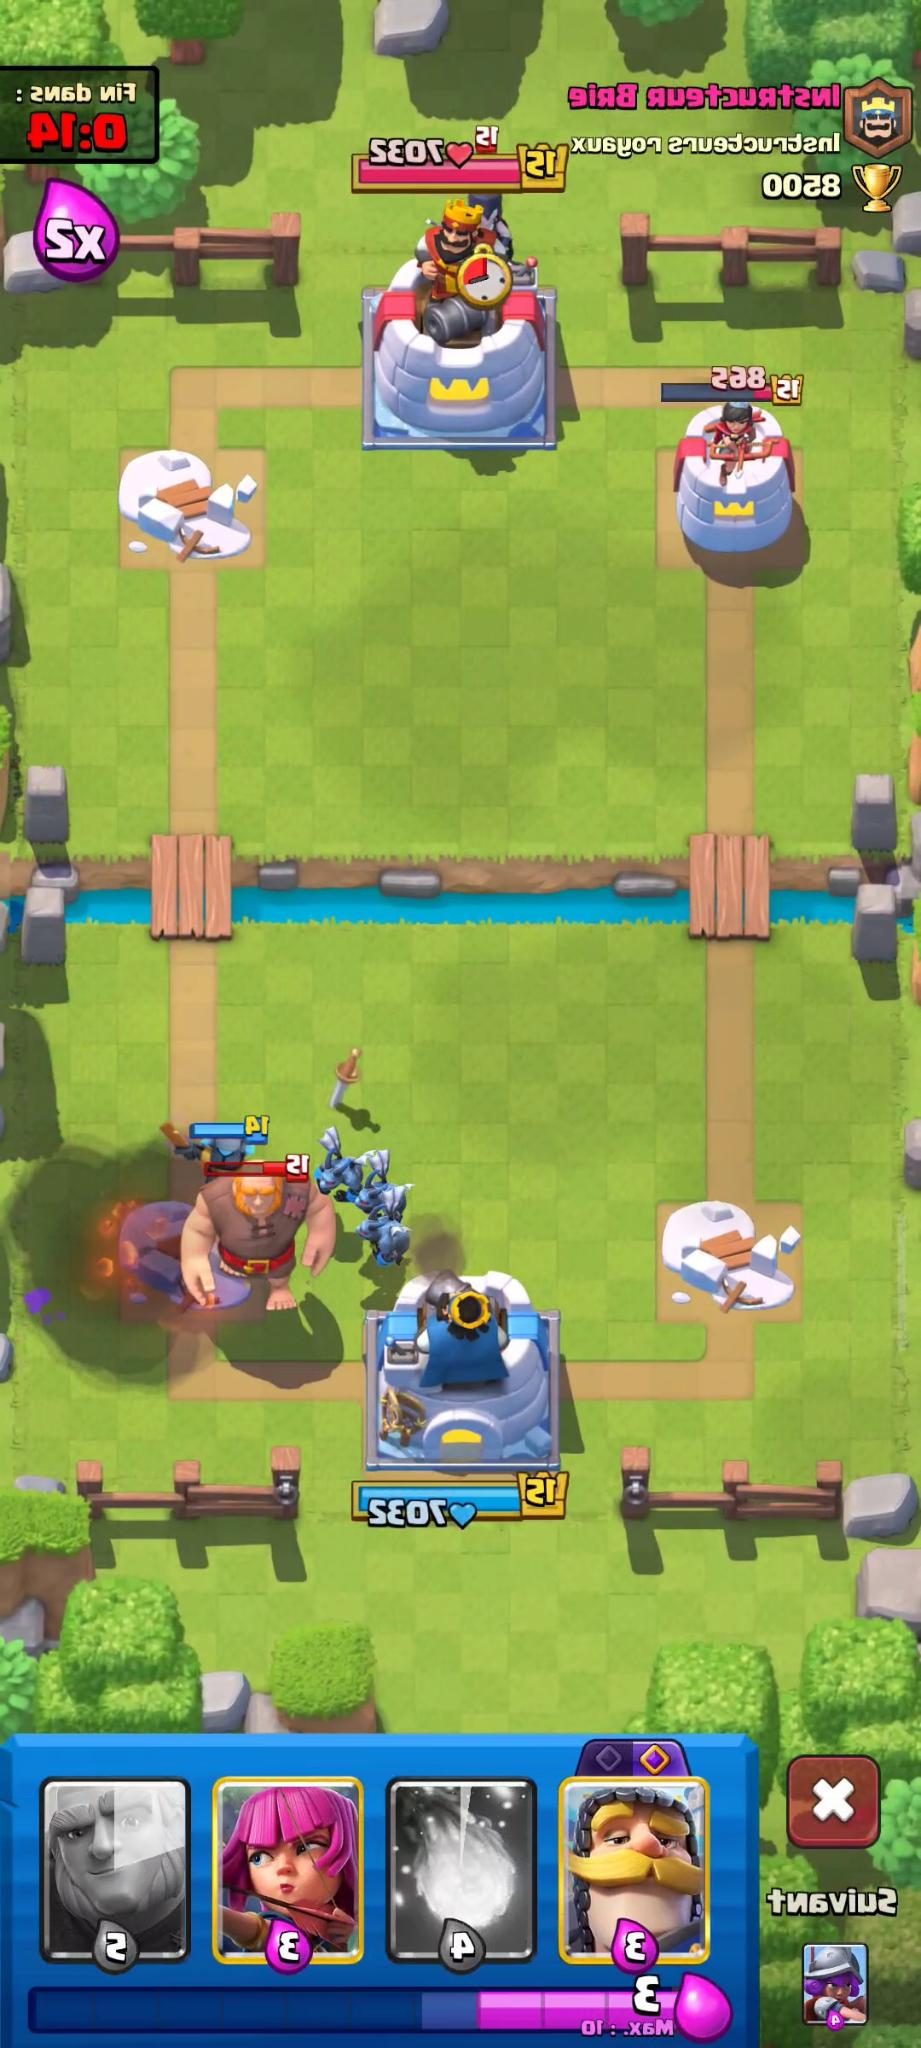gargouille: (349, 1207, 425, 1281), (308, 1134, 371, 1199), (354, 1152, 419, 1215)
geant: (174, 1155, 359, 1327)
mini_PEKKA: (162, 1101, 282, 1196)
